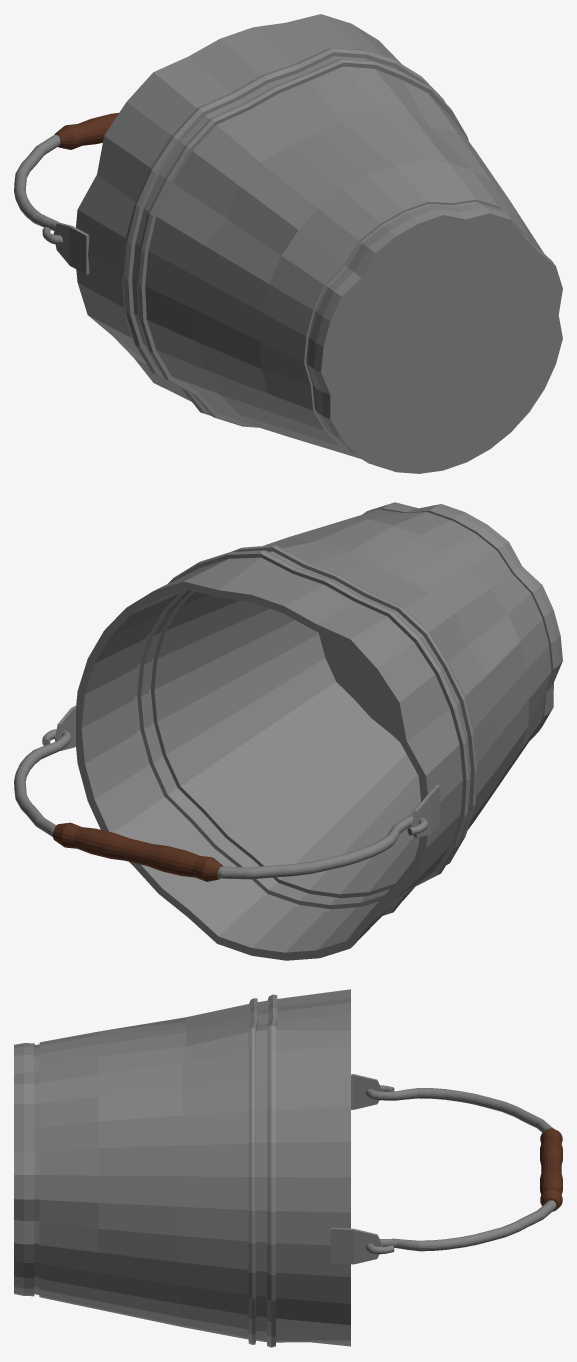
The model's file is bucket.glb.
3 renders of one model, top to bottom at view 1: azimuth 30°, elevation 25°; view 2: azimuth 150°, elevation 25°; view 3: azimuth 270°, elevation 25°, orthographic. The views are drawn at different scales.
Parts seen in each view (by area): view 1: iron bucket; view 2: iron bucket; view 3: iron bucket.
Part boxes in pixels (left/top/right/bottom): iron bucket: left=14, top=14, right=562, bottom=473; iron bucket: left=14, top=502, right=562, bottom=960; iron bucket: left=14, top=989, right=562, bottom=1347.
Bounding box in the file's own units: 2 × 1.83 × 2.81.
